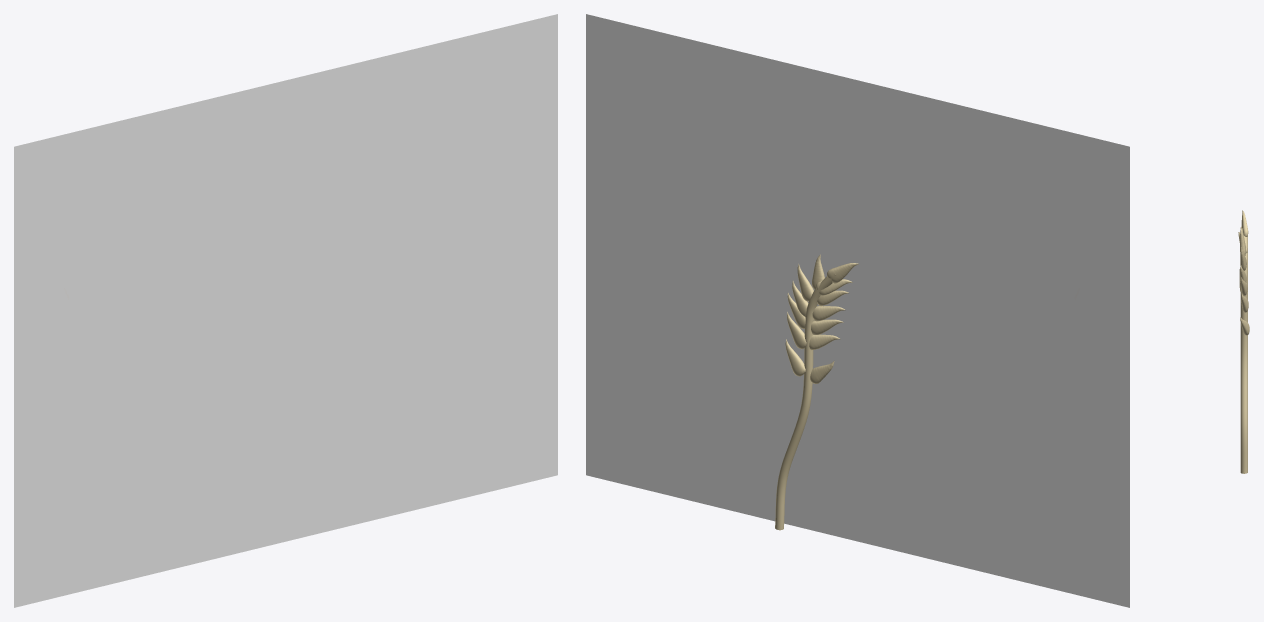
The model's file is obili.fbx.
The picture shows the model from 3 angles, left to right: view 1: azimuth 30°, elevation 25°; view 2: azimuth 150°, elevation 25°; view 3: azimuth 270°, elevation 25°; orthographic projection. The views are drawn at different scales.
Visible parts, largest first — view 1: root; view 2: root (×2); view 3: root.
Part boxes in pixels (box(x1,y1,x2,y2)): root: box(14, 14, 557, 607); root (×2): box(586, 14, 1129, 607); root: box(1240, 228, 1247, 473).
Bounding box in the file's own units: 0.696 × 0.564 × 0.1239.
Materials: 15 (15 with a texture image).
